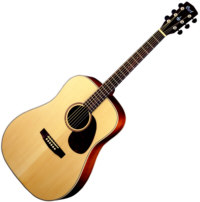guitar: (1, 1, 198, 202)
